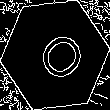O_SW: (24, 22, 86, 88)
